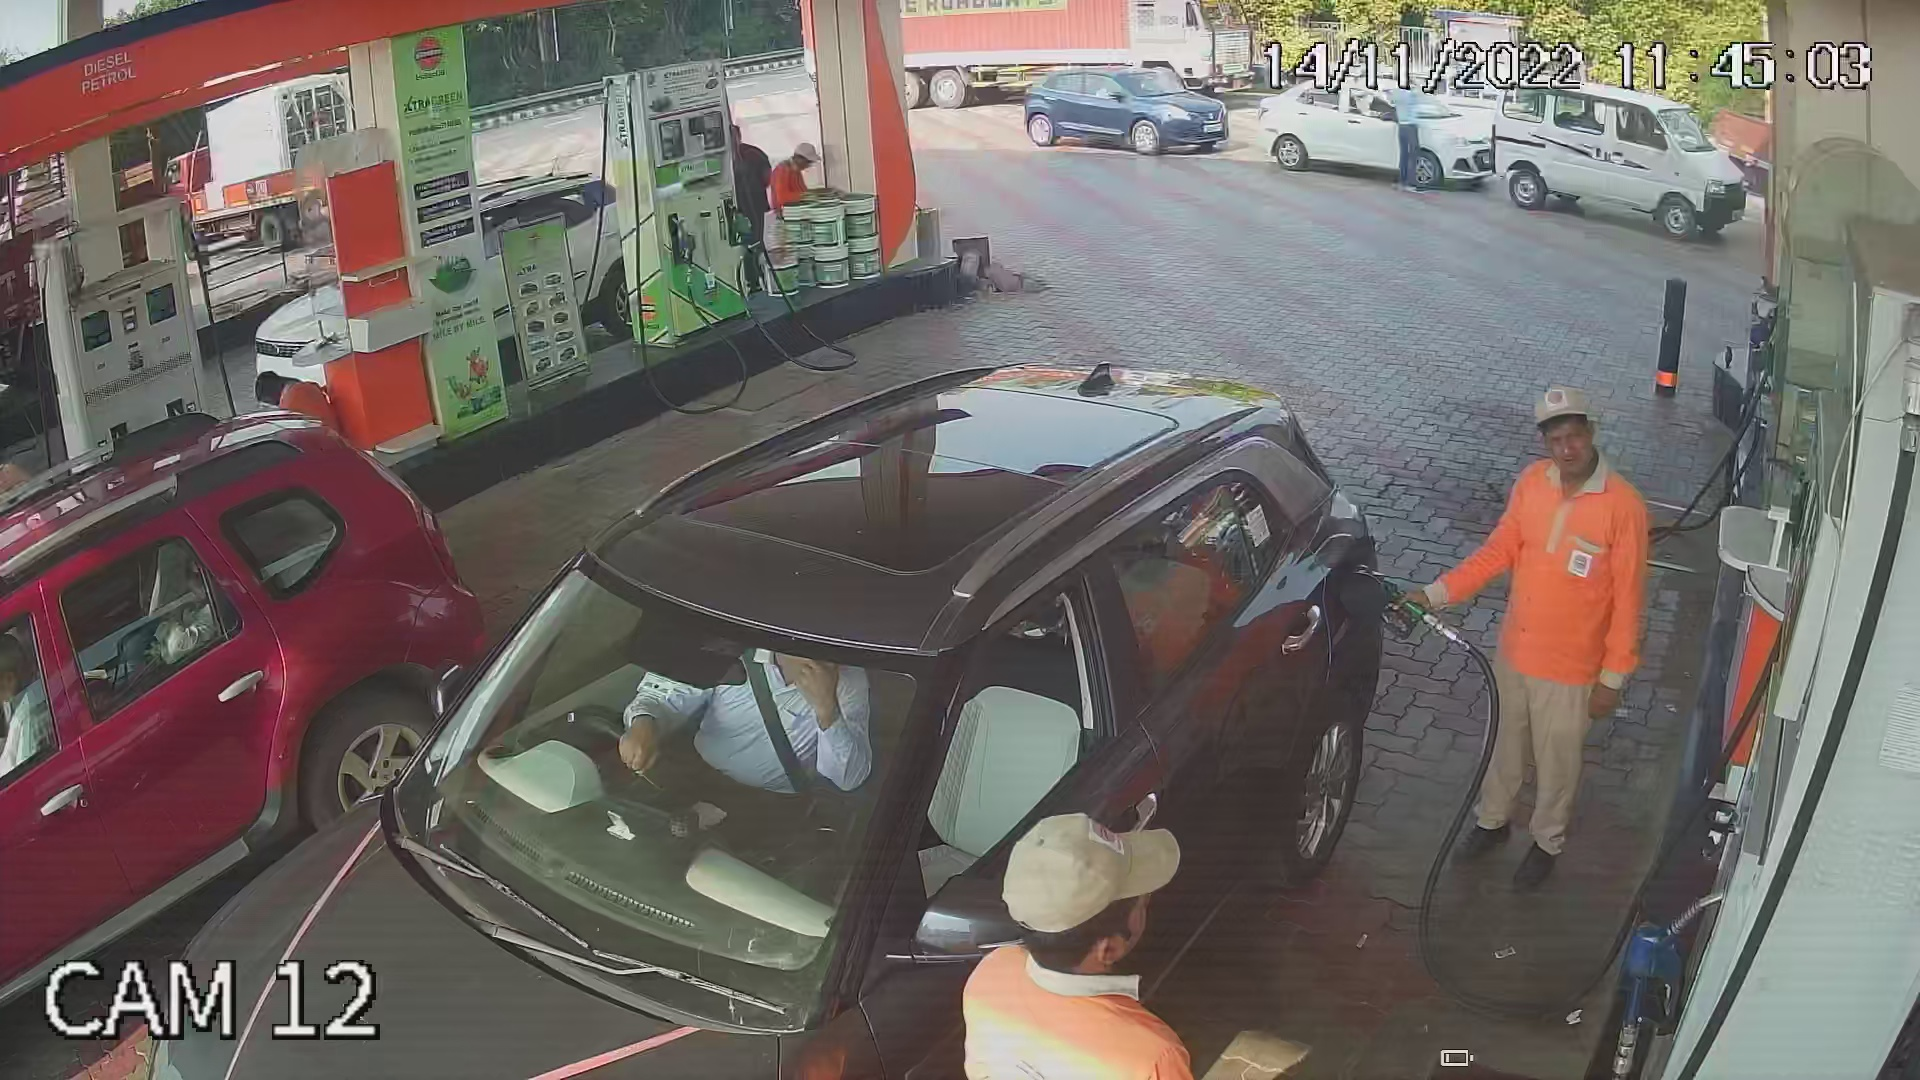Car: (149, 351, 1385, 1077), (0, 394, 501, 982), (237, 109, 691, 440), (1480, 67, 1753, 245), (1261, 62, 1503, 200), (1017, 54, 1244, 170)
HMV: (3, 120, 161, 422), (857, 0, 1253, 107), (160, 66, 351, 264)
Others: (1444, 380, 1668, 893), (952, 806, 1203, 1076), (769, 133, 827, 220)
